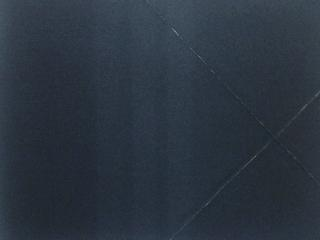crack: (144, 0, 320, 186), (173, 90, 319, 240)
